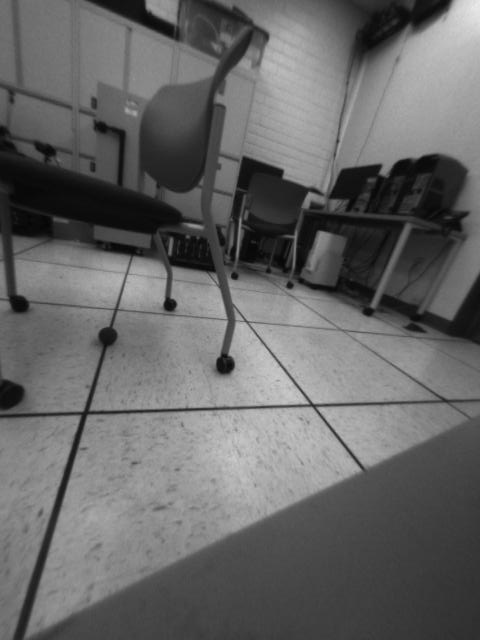dogtoy: (95, 319, 124, 351)
